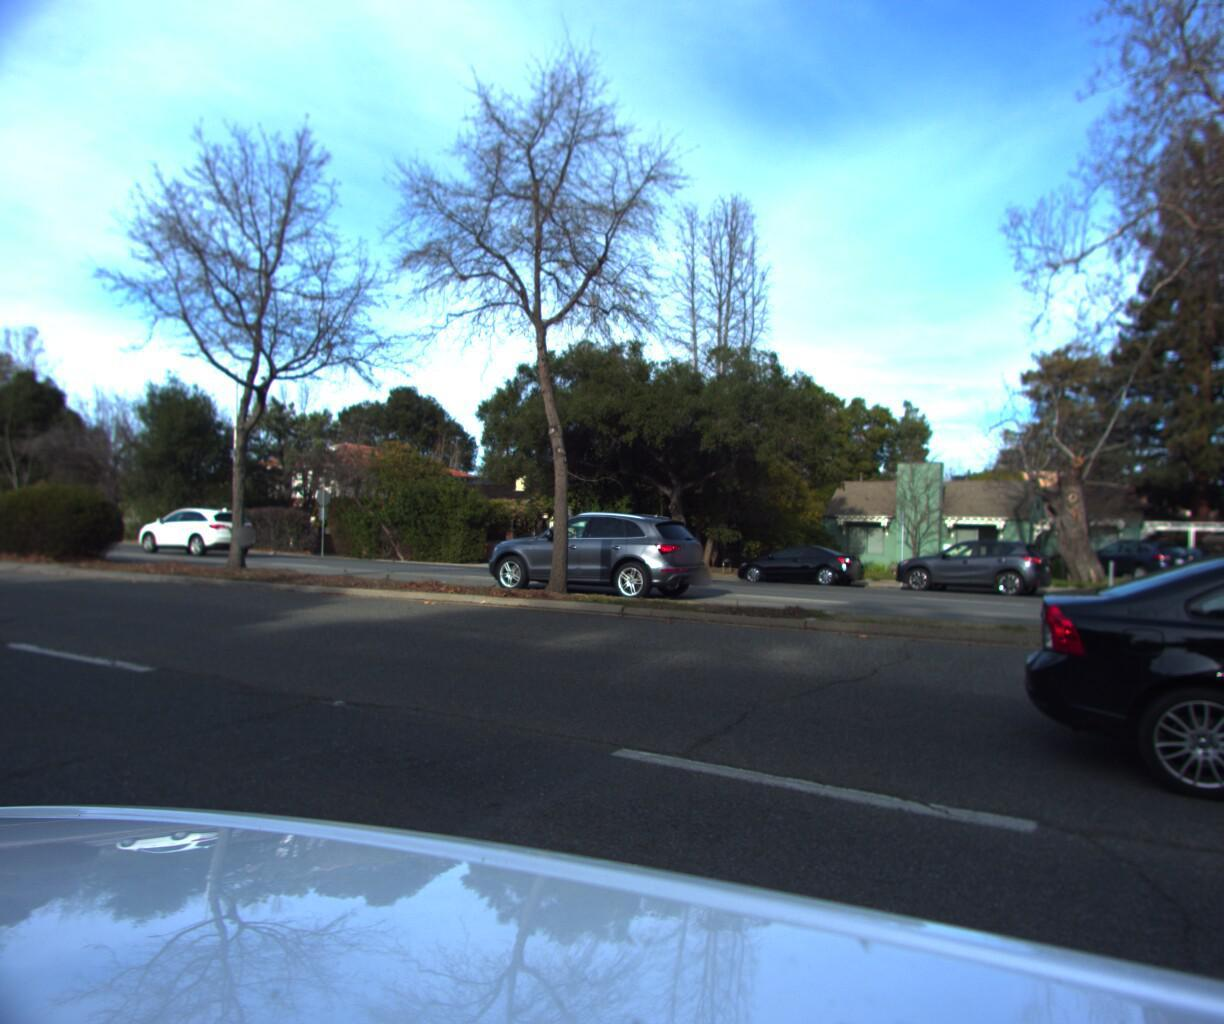car: (1008, 517, 1224, 939), (474, 513, 722, 607), (882, 535, 1054, 599), (131, 509, 263, 562), (727, 542, 864, 590), (1060, 534, 1195, 582)
